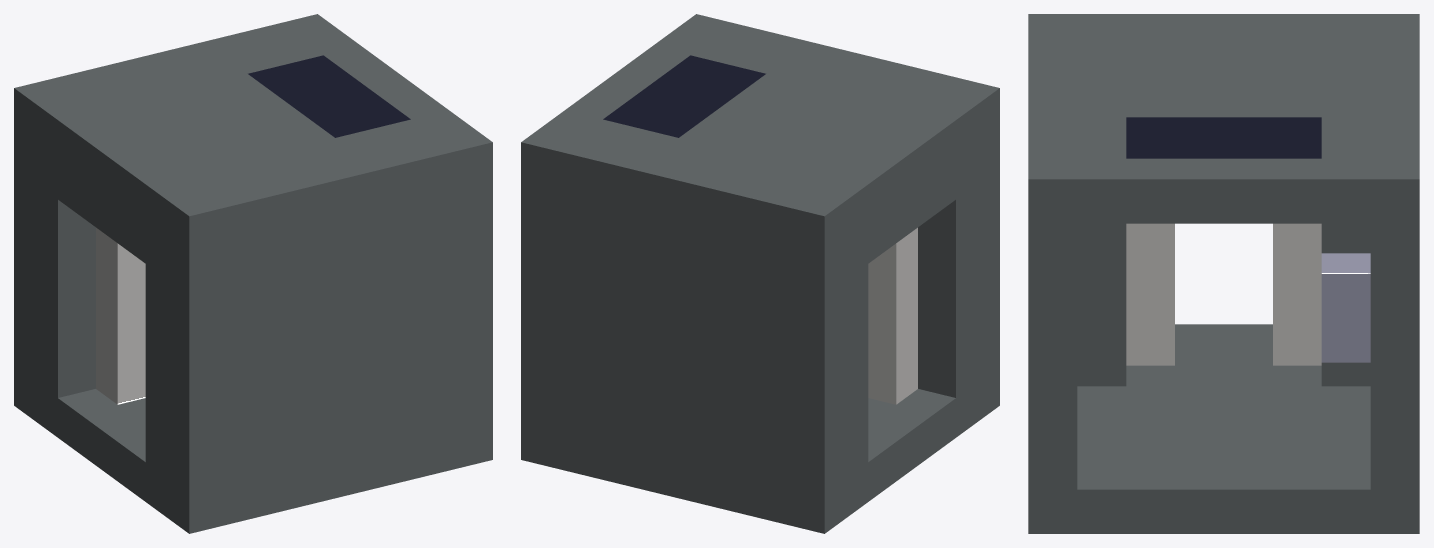
3 renders of one model, left to right at view 1: azimuth 30°, elevation 25°; view 2: azimuth 150°, elevation 25°; view 3: azimuth 270°, elevation 25°, orthographic. The views are drawn at different scales.
Parts seen in each view (by area): view 1: elevator.vox; view 2: elevator.vox; view 3: elevator.vox.
Boxes of the visible parts, <box> form: elevator.vox: <box>14,14,492,533</box>; elevator.vox: <box>521,14,999,533</box>; elevator.vox: <box>1028,14,1419,533</box>.
Bounding box in the file's own units: 0.8 × 0.8 × 0.8.
